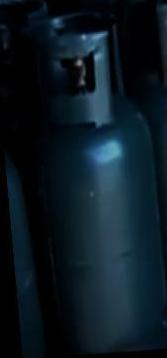cylinder: (1, 1, 167, 358)
